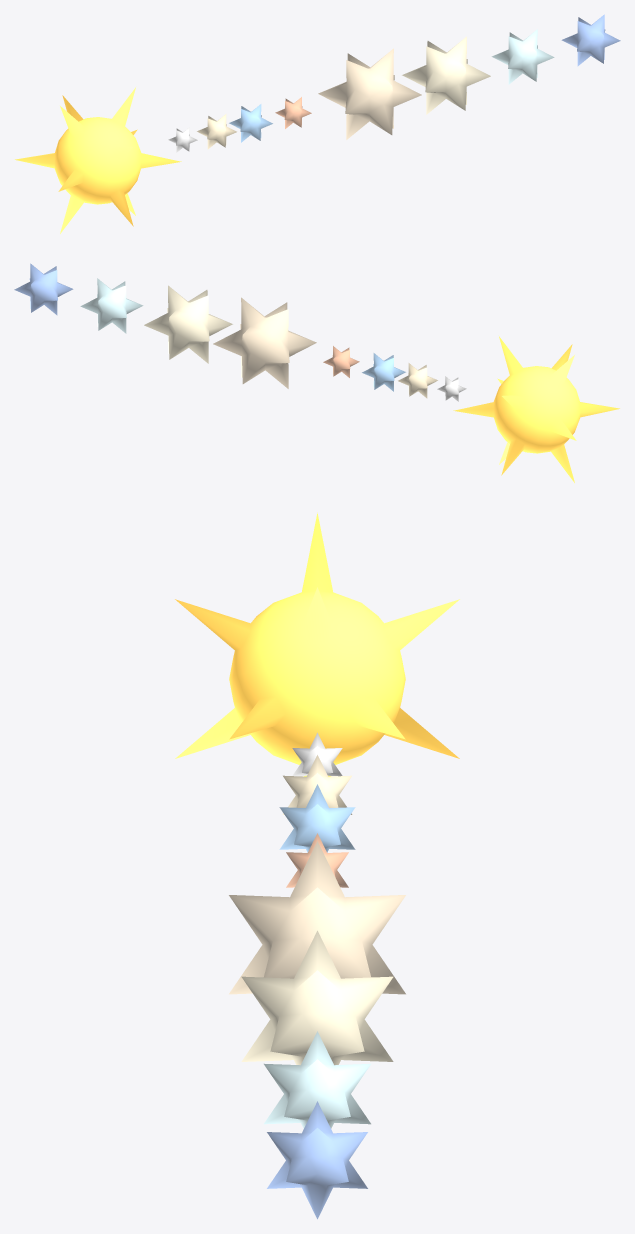
File: solar_ar.glb
3 renders of one model, top to bottom at view 1: azimuth 30°, elevation 25°; view 2: azimuth 150°, elevation 25°; view 3: azimuth 270°, elevation 25°, orthographic. The views are drawn at different scales.
Parts seen in each view (by area): view 1: Sun, Jupiter, Saturn, Uranus, Neptune, Earth, Venus, Mars, Mercury; view 2: Sun, Jupiter, Saturn, Uranus, Neptune, Earth, Venus, Mars, Mercury; view 3: Sun, Jupiter, Saturn, Neptune, Uranus, Earth, Venus, Mercury, Mars.
Part boxes in pixels (left/top/right/bottom): Sun: left=15, top=87, right=181, bottom=233; Jupiter: left=318, top=48, right=421, bottom=139; Saturn: left=402, top=36, right=490, bottom=114; Uranus: left=491, top=29, right=554, bottom=84; Neptune: left=561, top=14, right=620, bottom=66; Earth: left=229, top=104, right=272, bottom=142; Venus: left=197, top=114, right=236, bottom=149; Mars: left=275, top=97, right=311, bottom=128; Mercury: left=168, top=127, right=197, bottom=152; Sun: left=453, top=336, right=619, bottom=482; Jupiter: left=213, top=297, right=316, bottom=388; Saturn: left=144, top=285, right=232, bottom=363; Uranus: left=80, top=278, right=143, bottom=333; Neptune: left=14, top=263, right=73, bottom=315; Earth: left=362, top=353, right=405, bottom=391; Venus: left=398, top=363, right=437, bottom=398; Mars: left=323, top=346, right=359, bottom=377; Mercury: left=437, top=376, right=466, bottom=401; Sun: left=175, top=512, right=459, bottom=776; Jupiter: left=229, top=841, right=405, bottom=994; Saturn: left=241, top=930, right=393, bottom=1065; Neptune: left=267, top=1101, right=367, bottom=1219; Uranus: left=264, top=1031, right=370, bottom=1128; Earth: left=279, top=784, right=355, bottom=852; Venus: left=282, top=755, right=352, bottom=814; Mercury: left=292, top=732, right=342, bottom=776; Mars: left=286, top=833, right=348, bottom=887.
Size of the model in its own units: 0.6787 by 0.1456 by 0.1456.
